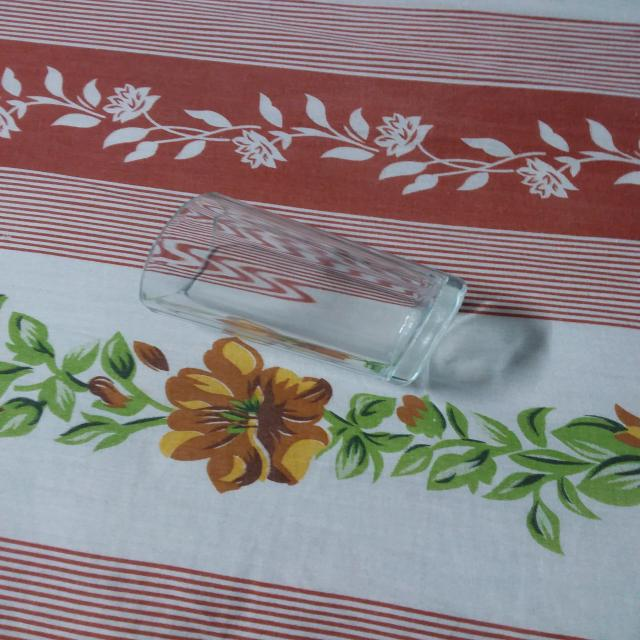Glass: (134, 188, 472, 388)
